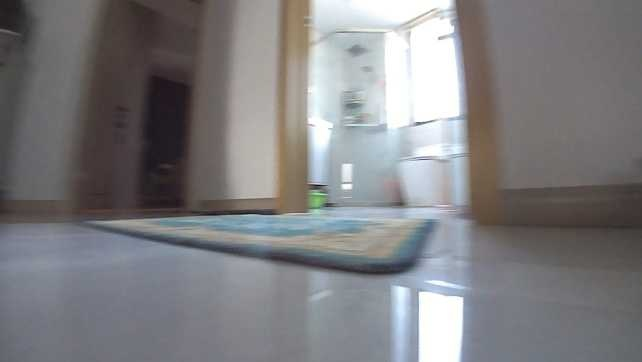cupboard: (80, 209, 435, 277)
toilet: (396, 144, 452, 207)
